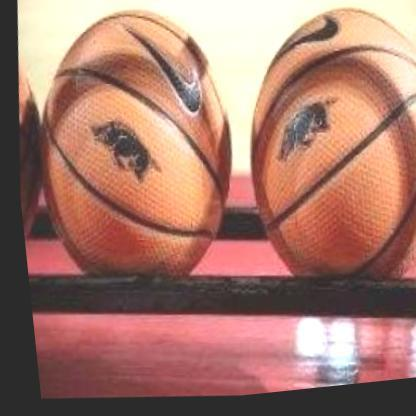basketball: (10, 0, 258, 323), (218, 0, 416, 318)
